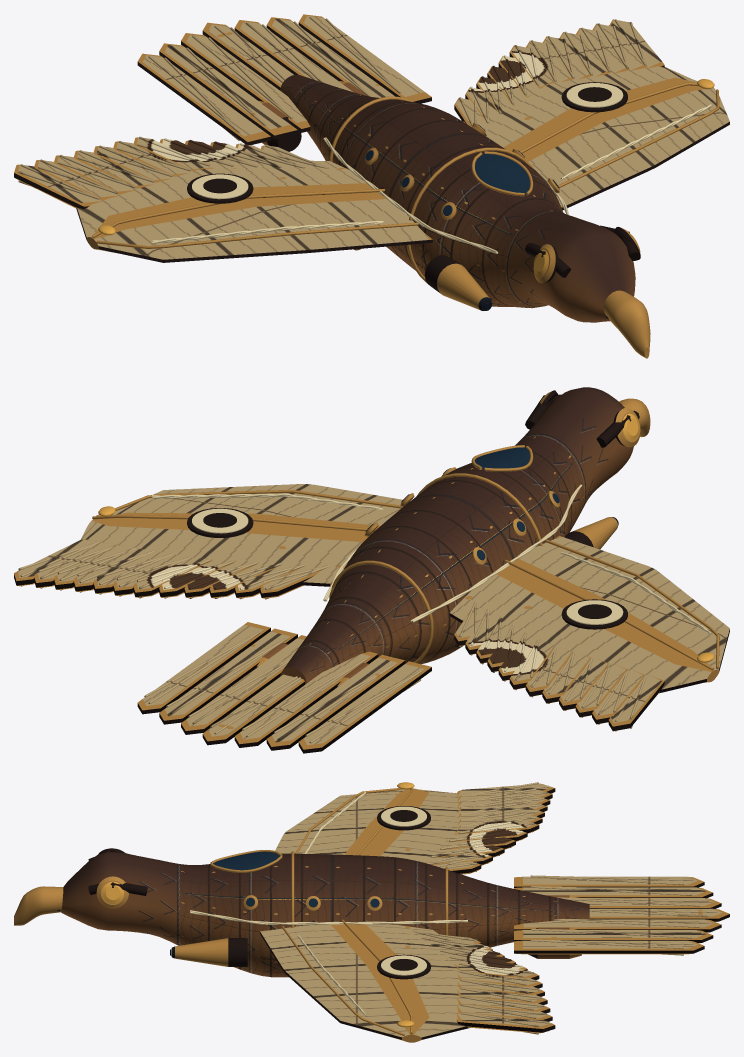
The picture shows the model from 3 angles, top to bottom: view 1: azimuth 30°, elevation 25°; view 2: azimuth 150°, elevation 25°; view 3: azimuth 270°, elevation 25°; orthographic projection. The views are drawn at different scales.
Visible parts, largest first — view 1: shrike_hull; view 2: shrike_hull; view 3: shrike_hull.
Part boxes in pixels (<box>): shrike_hull: <box>14,14,729,358</box>; shrike_hull: <box>14,387,729,753</box>; shrike_hull: <box>14,782,729,1042</box>.
Size of the model in its own units: 13.49 by 3.02 by 16.5.
1 material, 1 textured.
